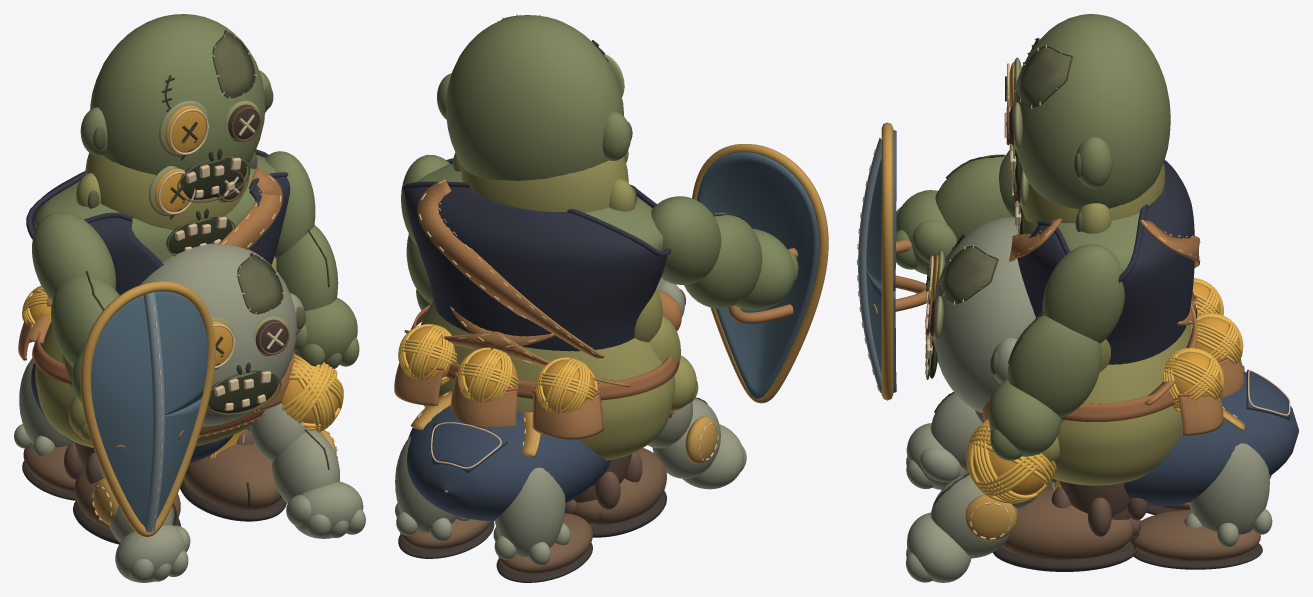
File: second-trio.glb
The picture shows the model from 3 angles, left to right: view 1: azimuth 30°, elevation 25°; view 2: azimuth 150°, elevation 25°; view 3: azimuth 270°, elevation 25°; orthographic projection. The views are drawn at different scales.
Visible parts, largest first — view 1: shielded / Mesh / Head.001, denim kite shield, crawler / Mesh / Head.001, shielded / Mesh / ArmR.001, shielded / Mesh / ArmL.001, crawler / Mesh / ArmR.001, bomber / Mesh / Head.001, shielded / Mesh / LegR.001, mustard rolled shield rim, tailored navy vest, crawler / Mesh / LegL.001, crawler / Mesh / ArmL.001 (+15 smaller); view 2: shielded / Mesh / Head.001, tailored navy vest, denim kite shield, shielded / Mesh / ArmL.001, horizontal denim overalls, pear shaped stuffed body, crawler / Mesh / LegL.001, bomber / Mesh / Head.001, shielded / Mesh / LegL.001, crawler / Mesh / LegR.001, broad stitched bandolier.001, crawler / Mesh / ArmL.001 (+19 smaller); view 3: shielded / Mesh / Head.001, shielded / Mesh / ArmR.001, crawler / Mesh / Head.001, tailored navy vest, crawler / Mesh / LegR.001, pear shaped stuffed body, shielded / Mesh / LegR.001, horizontal denim overalls, shielded / Mesh / ArmL.001, crawler / Mesh / ArmR.001, crawler / Mesh / ArmL.001, bomber / Mesh / Head.001 (+19 smaller).
Part boxes in pixels (x1,y1,x2,y2): shielded / Mesh / Head.001: (80,14,273,202); denim kite shield: (91,291,207,525); crawler / Mesh / Head.001: (140,243,305,426); shielded / Mesh / ArmR.001: (265,151,359,368); shielded / Mesh / ArmL.001: (32,212,119,402); crawler / Mesh / ArmR.001: (249,403,365,538); bomber / Mesh / Head.001: (76,152,257,256); shielded / Mesh / LegR.001: (180,427,286,521); mustard rolled shield rim: (80,281,215,536); tailored navy vest: (31,171,290,294); crawler / Mesh / LegL.001: (14,358,76,500); crawler / Mesh / ArmL.001: (96,457,190,582); shielded / Mesh / Head.001: (437,14,632,180); tailored navy vest: (405,186,666,351); denim kite shield: (697,152,818,398); shielded / Mesh / ArmL.001: (651,196,798,310); horizontal denim overalls: (407,405,611,520); pear shaped stuffed body: (421,300,675,460); crawler / Mesh / LegL.001: (493,467,592,582); bomber / Mesh / Head.001: (453,150,636,212); shielded / Mesh / LegL.001: (574,448,666,537); crawler / Mesh / LegR.001: (395,436,494,558); broad stitched bandolier.001: (417,178,604,358); crawler / Mesh / ArmL.001: (647,397,746,489); shielded / Mesh / Head.001: (1004,14,1170,209); shielded / Mesh / ArmR.001: (988,244,1124,460); crawler / Mesh / Head.001: (925,217,1035,413); tailored navy vest: (1017,160,1194,364); crawler / Mesh / LegR.001: (1130,443,1272,569); pear shaped stuffed body: (1053,324,1191,485); shielded / Mesh / LegR.001: (992,480,1148,571); horizontal denim overalls: (1052,371,1298,505); shielded / Mesh / ArmL.001: (896,150,1015,274); crawler / Mesh / ArmR.001: (906,473,1037,582); crawler / Mesh / ArmL.001: (906,392,983,489); bomber / Mesh / Head.001: (1011,163,1164,234).
Bounding box in the file's own units: 1.6 × 2.2 × 1.71.
